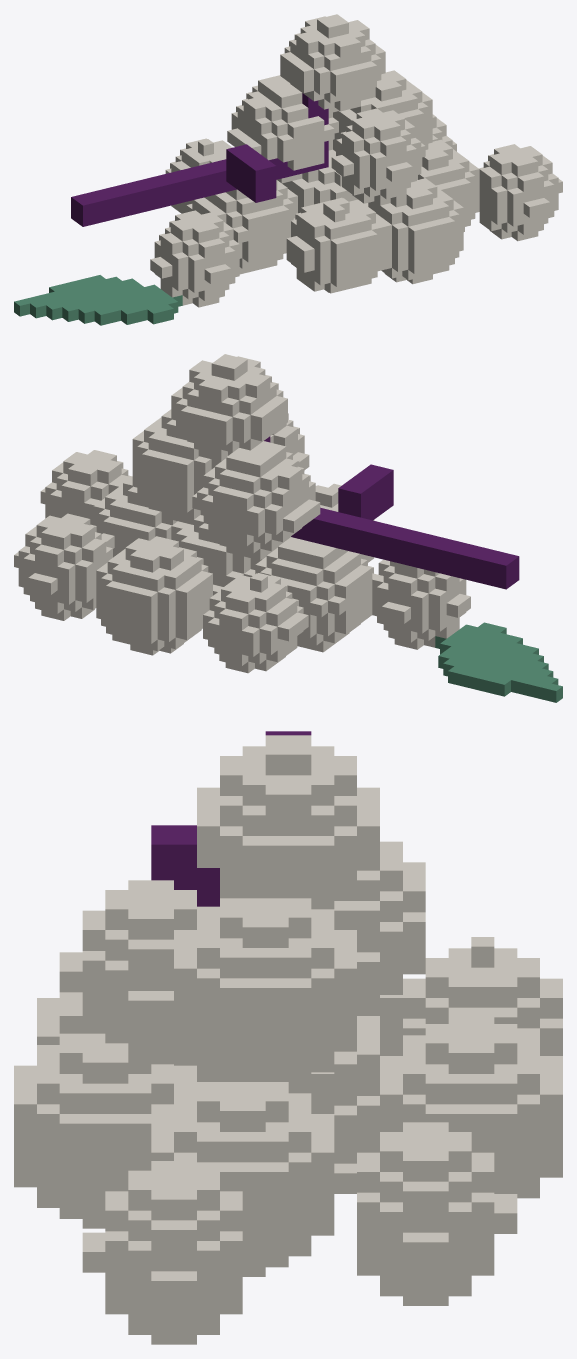
The model's file is pale_bush_berries.glb.
The picture shows the model from 3 angles, top to bottom: view 1: azimuth 30°, elevation 25°; view 2: azimuth 150°, elevation 25°; view 3: azimuth 270°, elevation 25°; orthographic projection. The views are drawn at different scales.
Parts seen in each view (by area): view 1: pale_bush_berries:compound; view 2: pale_bush_berries:compound; view 3: pale_bush_berries:compound.
Boxes of the visible parts, box(x1,y1,x2,y2) form: pale_bush_berries:compound: box(14, 14, 562, 325); pale_bush_berries:compound: box(14, 354, 562, 702); pale_bush_berries:compound: box(14, 731, 562, 1344).
Bounding box in the file's own units: 0.098 × 0.042 × 0.048.
